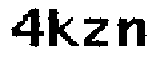4: (8, 6, 46, 50)
k: (47, 5, 79, 53)
n: (117, 16, 151, 51)
z: (80, 15, 115, 49)
